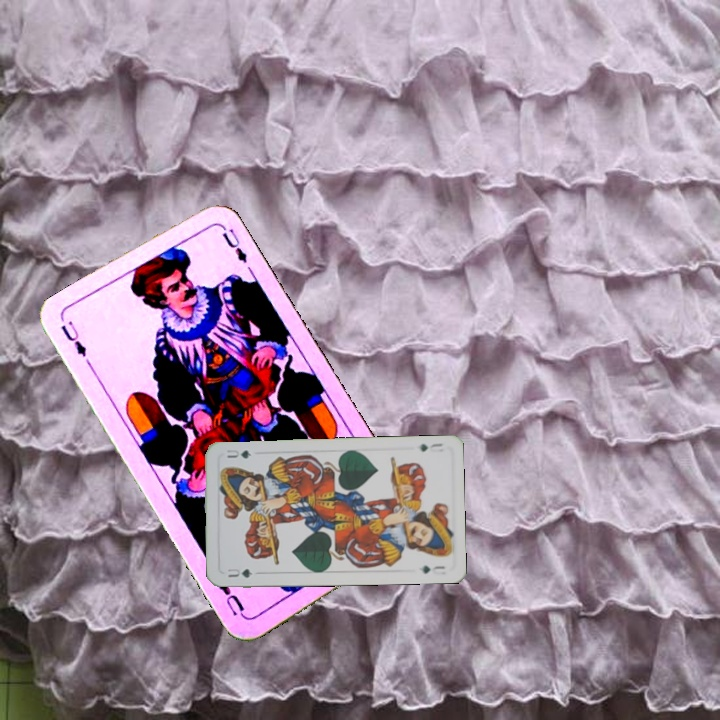EU: (56, 316, 89, 360)
GU: (223, 564, 255, 580), (416, 439, 446, 454)
